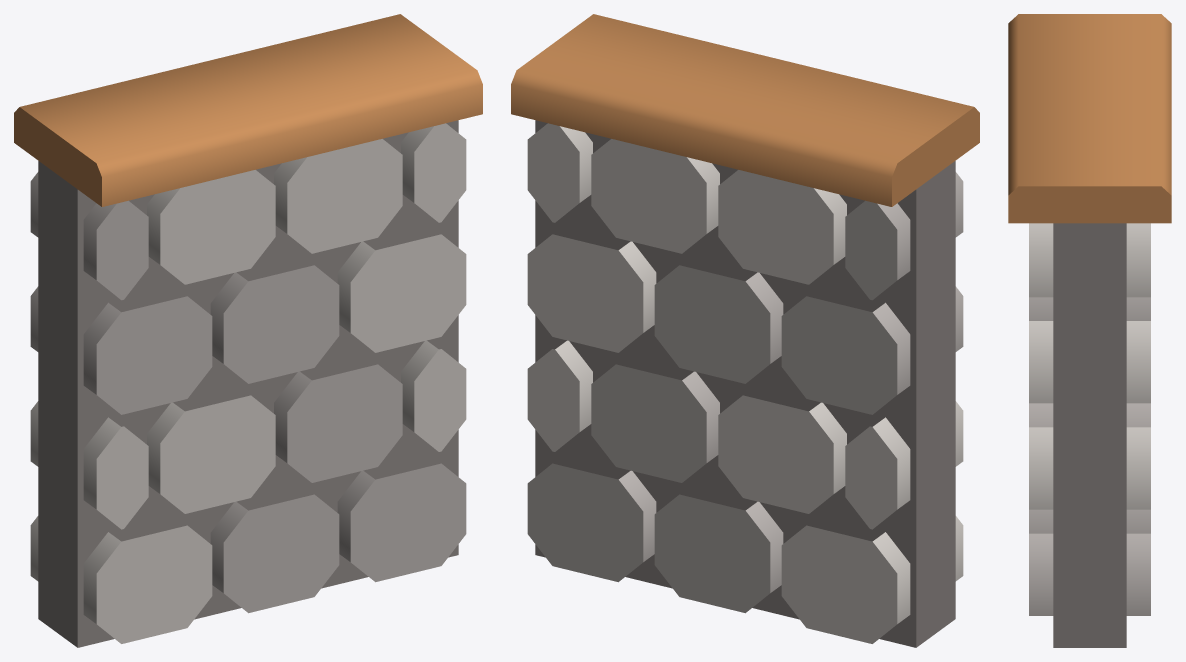
File: zoo_wall.glb
3 views of the same model, side by side, from view 1: azimuth 30°, elevation 25°; view 2: azimuth 150°, elevation 25°; view 3: azimuth 270°, elevation 25° (orthographic). The views are drawn at different scales.
Parts seen in each view (by area): view 1: zoo_wall; view 2: zoo_wall; view 3: zoo_wall.
Part boxes in pixels (left/top/right/bottom): zoo_wall: left=14, top=14, right=482, bottom=647; zoo_wall: left=511, top=14, right=979, bottom=647; zoo_wall: left=1008, top=14, right=1171, bottom=647.
Bounding box in the file's own units: 2 × 2.5 × 0.8.
1 material, 1 textured.
